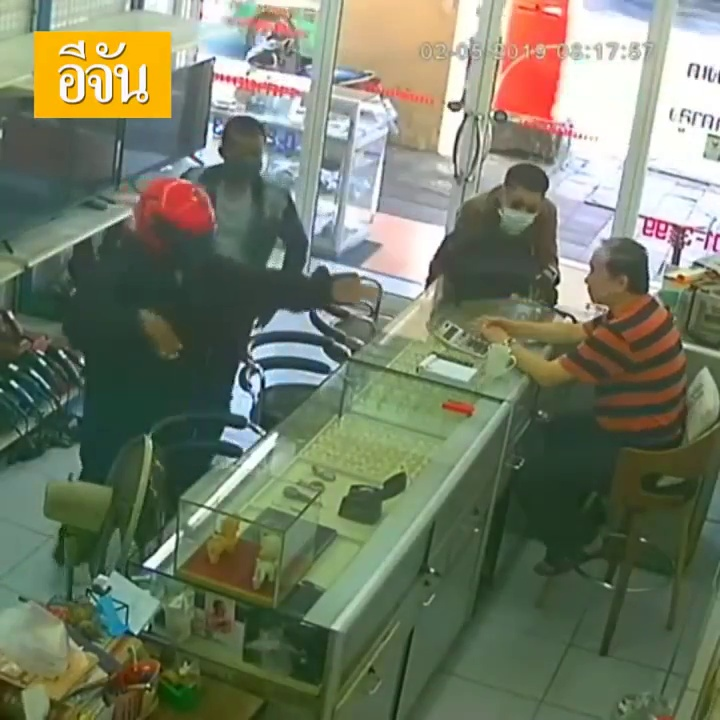helmet: (128, 161, 214, 279)
